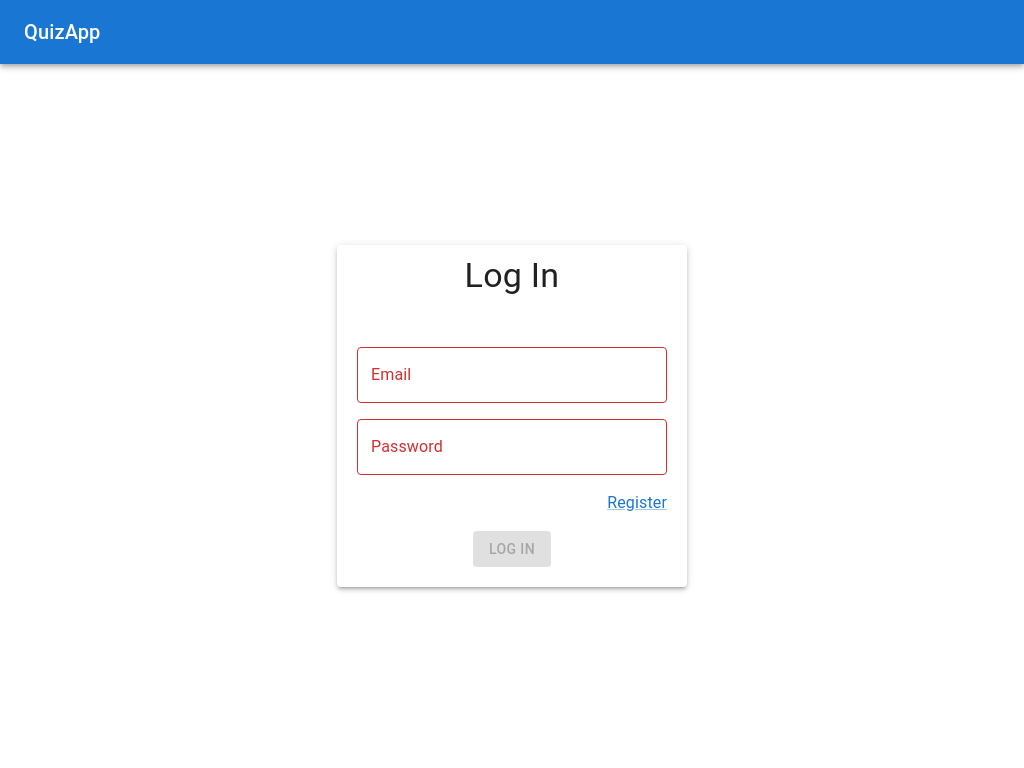
Test: The App component › renders well and displays quiz page when user connected
Click the link with test id "link-register". click: click(637, 502)
box: [607,493,667,512]
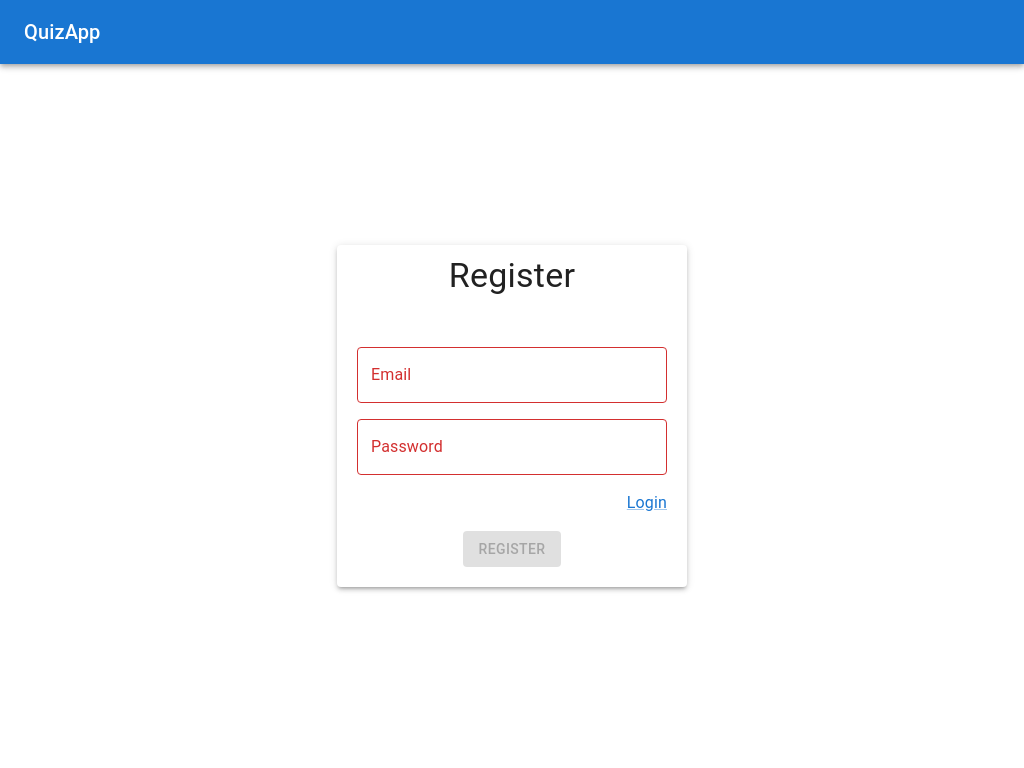
Type "test@test.com" into the field. click: (512, 375)
box: [357,347,667,403]
Type "password" into the password field named "native-input-password". click: (512, 447)
box: [357,419,667,475]
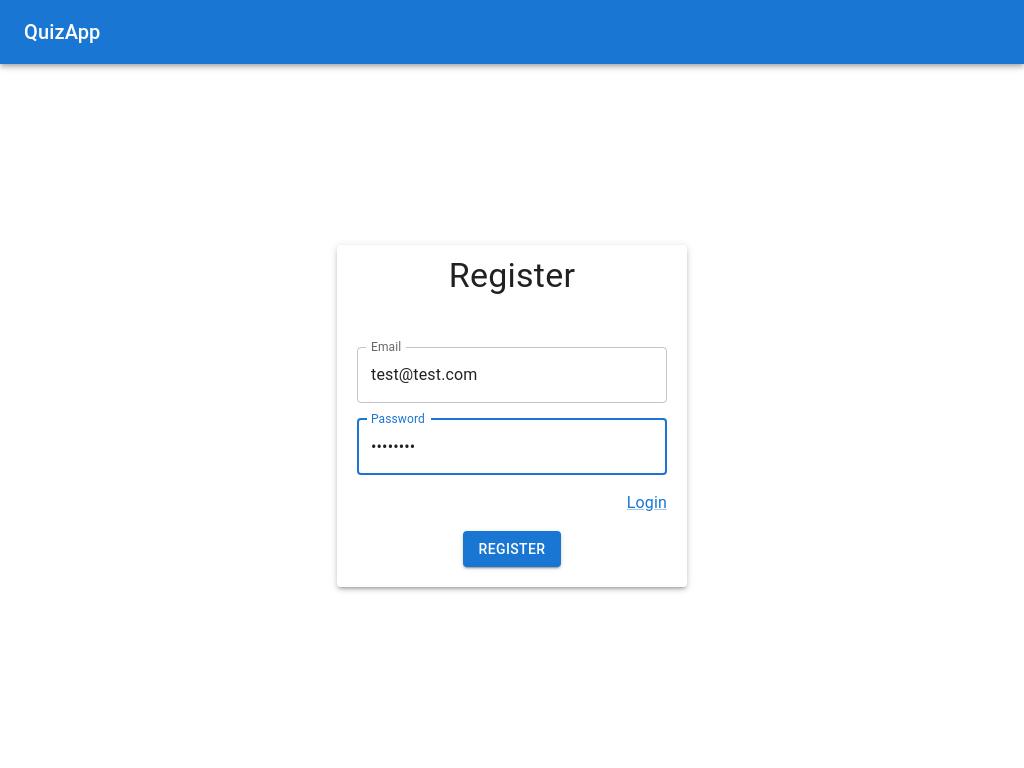
Expected: the button with aria-label "btn-register" is enabled
Click the button with aria-label "btn-register". click: click(512, 549)
box: [462,531,562,567]
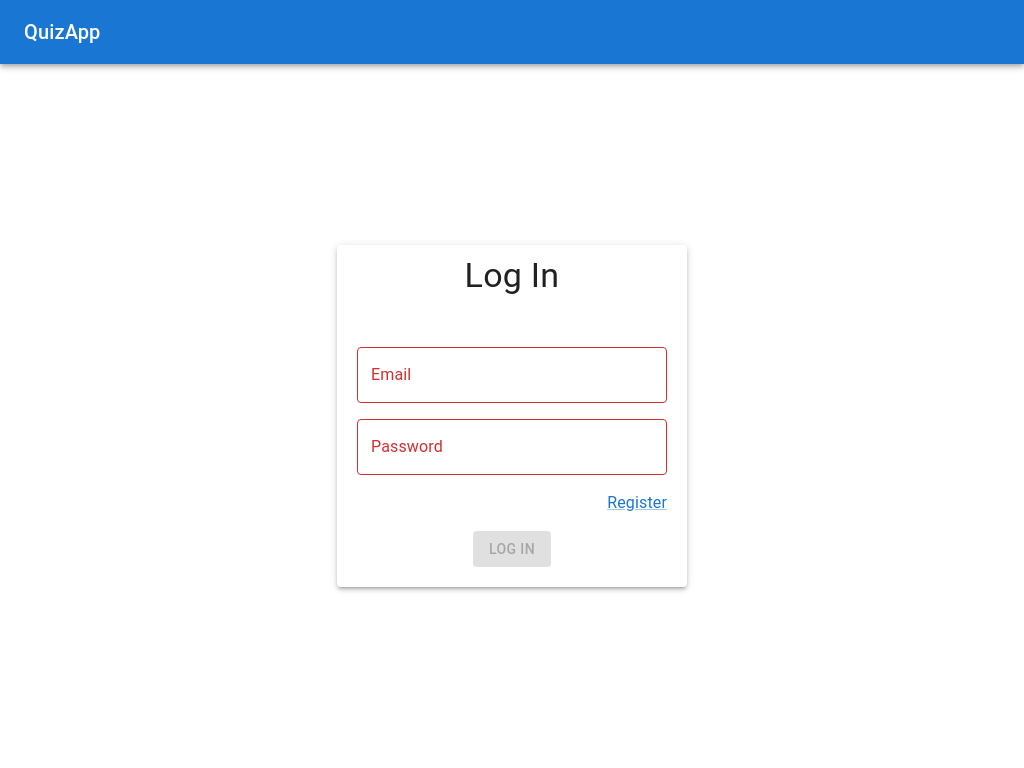
 Logs in
Type "test@test.com" into the field. click: (512, 375)
box: [357,347,667,403]
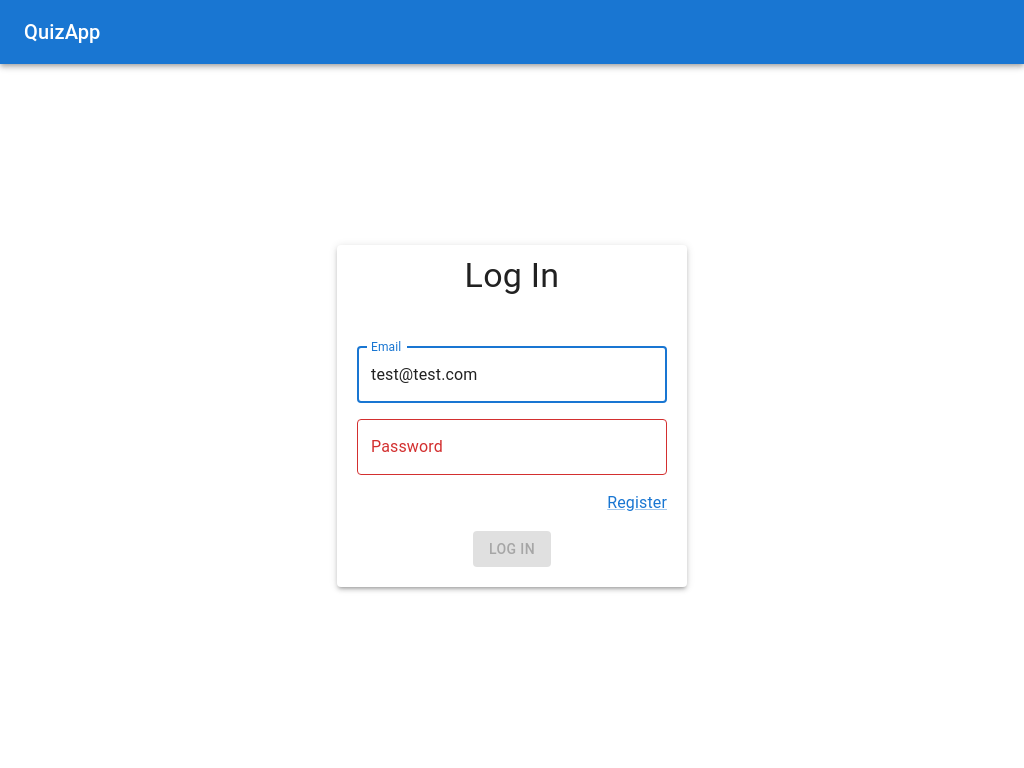
Type "password" into the password field named "native-input-password". click: (512, 447)
box: [357,419,667,475]
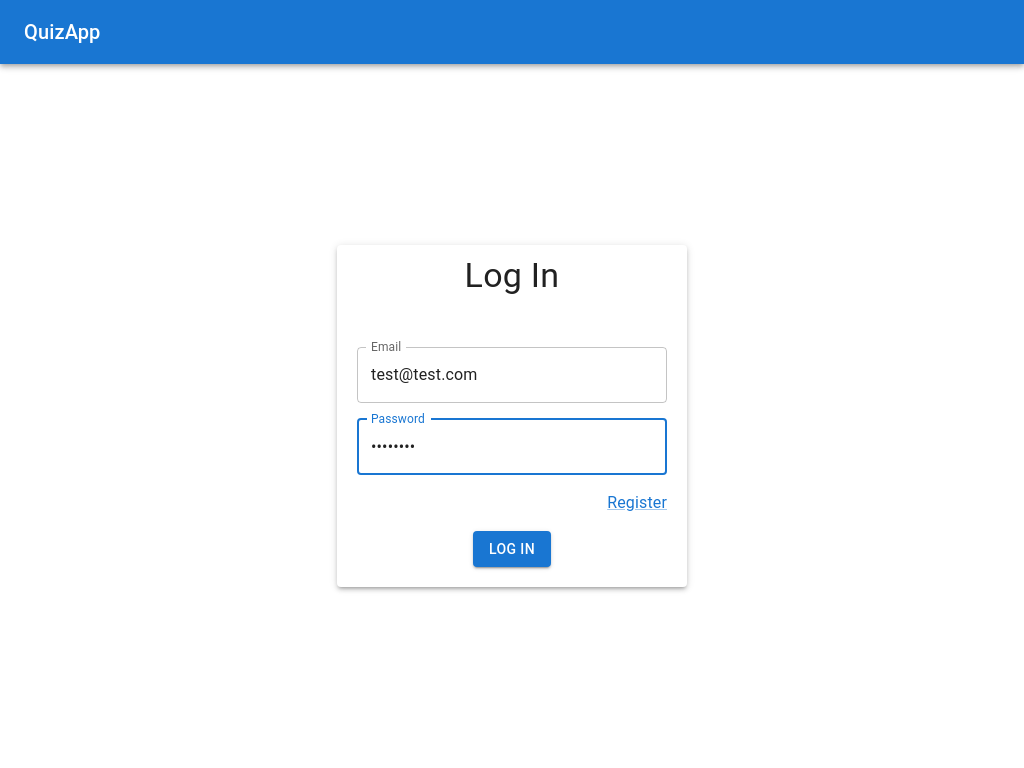
Expected: the button with aria-label "btn-login" is enabled
Click the button with aria-label "btn-login". click: click(512, 549)
box: [473,531,551,567]
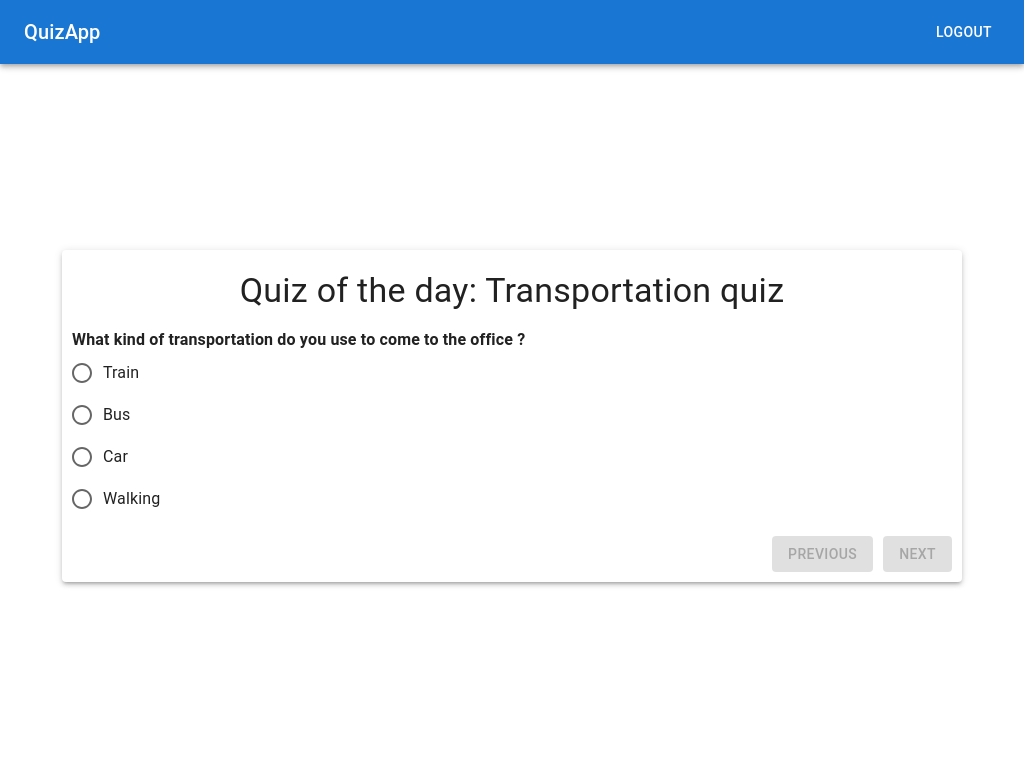
Expected: the element named "quiz-page" is shown, [62,250,962,582]
